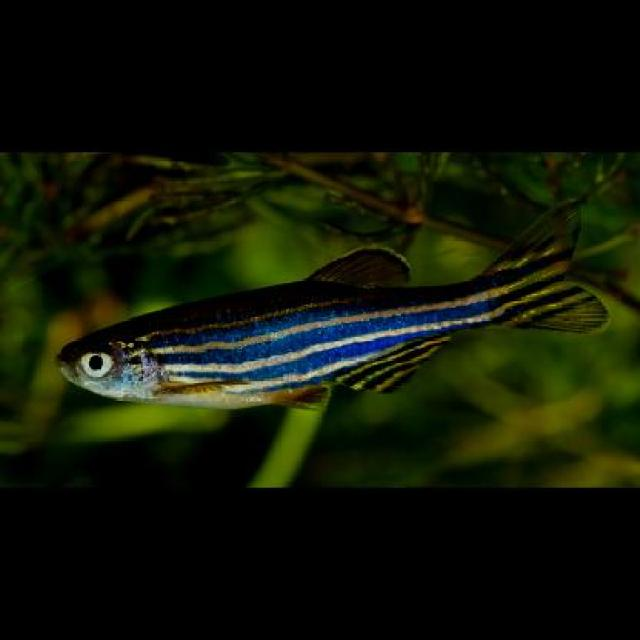ZebraFish: (58, 198, 610, 411)
